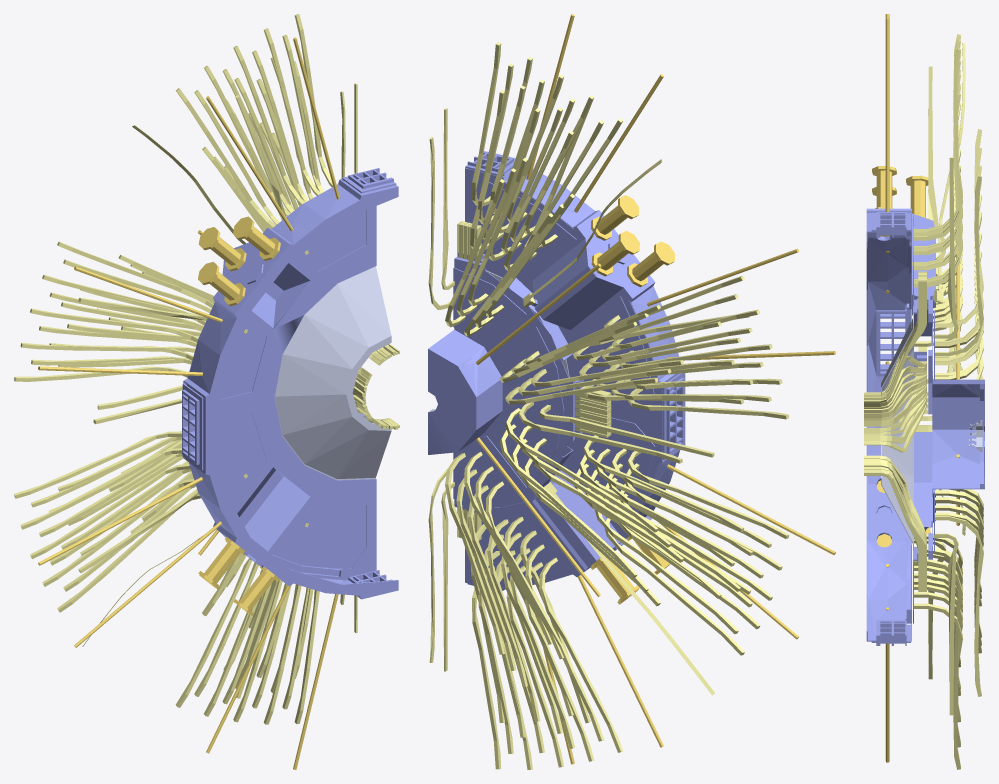
Rendered from pixel-pp1-side-C-cut2.glb.
3 views of the same model, side by side, from view 1: azimuth 30°, elevation 25°; view 2: azimuth 150°, elevation 25°; view 3: azimuth 270°, elevation 25° (orthographic). The views are drawn at different scales.
Visible parts, largest first — view 1: _000001AD17D66EC0_IndexedFaceSet, _000001AD17D6CAA0_IndexedFaceSet, _000001AD282AEEB0_IndexedFaceSet, _000001AD285BD460_001_IndexedFaceSet; view 2: _000001AD17D6CAA0_IndexedFaceSet, _000001AD17D66EC0_IndexedFaceSet, _000001AD285BD460_001_IndexedFaceSet; view 3: _000001AD17D6CAA0_IndexedFaceSet, _000001AD17D66EC0_IndexedFaceSet, _000001AD285BD460_001_IndexedFaceSet, _000001AD282AEEB0_IndexedFaceSet, _000001AD282B4010_IndexedFaceSet.
Boxes of the visible parts, x1,y1,x2,y2 form: _000001AD17D66EC0_IndexedFaceSet: (182,168,398,599); _000001AD17D6CAA0_IndexedFaceSet: (14,14,399,724); _000001AD282AEEB0_IndexedFaceSet: (274,266,391,480); _000001AD285BD460_001_IndexedFaceSet: (38,37,339,769); _000001AD17D6CAA0_IndexedFaceSet: (428,42,788,769); _000001AD17D66EC0_IndexedFaceSet: (428,151,685,590); _000001AD285BD460_001_IndexedFaceSet: (476,14,835,764); _000001AD17D6CAA0_IndexedFaceSet: (864,34,983,769); _000001AD17D66EC0_IndexedFaceSet: (866,208,984,645); _000001AD285BD460_001_IndexedFaceSet: (872,14,959,762); _000001AD282AEEB0_IndexedFaceSet: (881,311,913,550); _000001AD282B4010_IndexedFaceSet: (969,420,982,451).
Bounding box in the file's own units: 1.27 × 2.54 × 0.3741.
